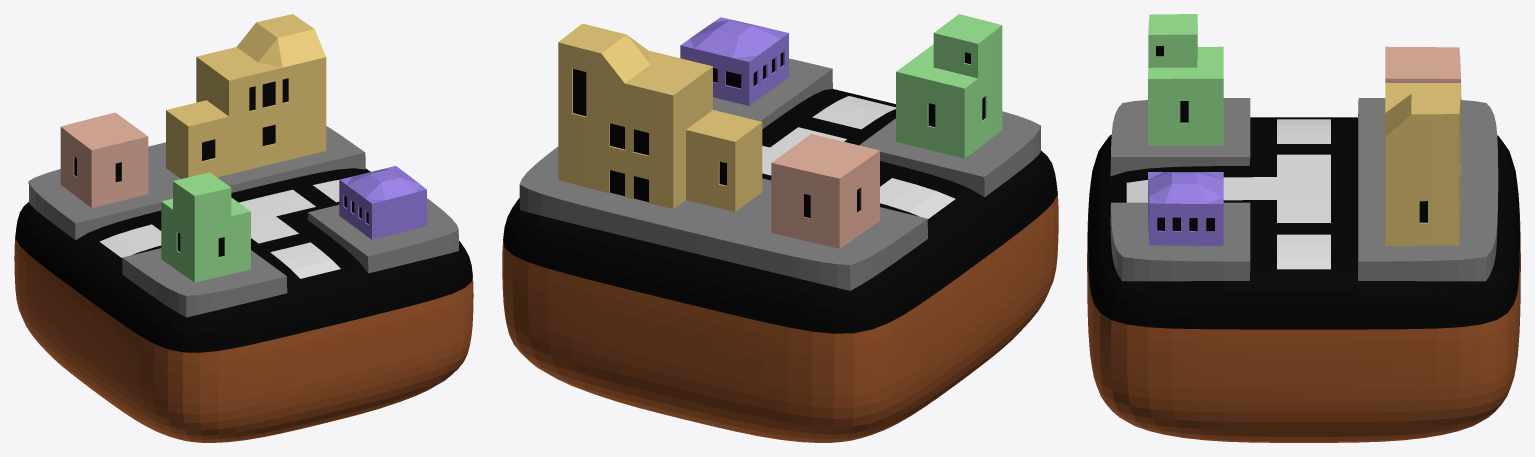
The model's file is platformTripleVille.fbx.
3 views of the same model, side by side, from view 1: azimuth 30°, elevation 25°; view 2: azimuth 150°, elevation 25°; view 3: azimuth 270°, elevation 25° (orthographic). The views are drawn at different scales.
Parts seen in each view (by area): view 1: ville triple; view 2: ville triple; view 3: ville triple.
Boxes of the visible parts, <box> form: ville triple: <box>14,14,473,442</box>; ville triple: <box>502,14,1058,442</box>; ville triple: <box>1087,14,1520,442</box>.
Bounding box in the file's own units: 200 × 171 × 200.
